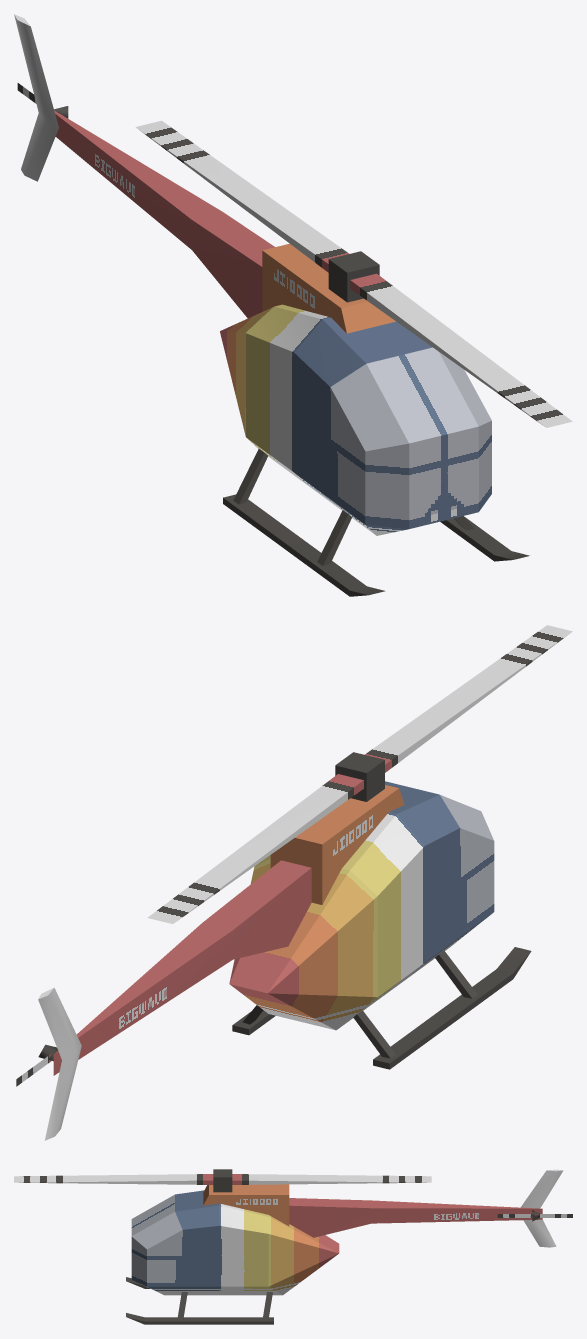
File: 0382_Helicopter.glb
3 views of the same model, one above another, from view 1: azimuth 30°, elevation 25°; view 2: azimuth 150°, elevation 25°; view 3: azimuth 270°, elevation 25° (orthographic). The views are drawn at different scales.
Visible parts, largest first — view 1: part_0, part_1; view 2: part_0, part_1; view 3: part_0, part_1, part_2.
Boxes of the visible parts, left/top/right/bottom form: part_0: left=14, top=14, right=529, bottom=596; part_1: left=135, top=120, right=572, bottom=427; part_0: left=38, top=781, right=531, bottom=1140; part_1: left=147, top=625, right=572, bottom=923; part_0: left=126, top=1169, right=563, bottom=1324; part_1: left=14, top=1169, right=431, bottom=1192; part_2: left=497, top=1210, right=572, bottom=1221.
Bounding box in the file's own units: 1.83 × 2.84 × 10.81.
3 materials, 3 textured.
